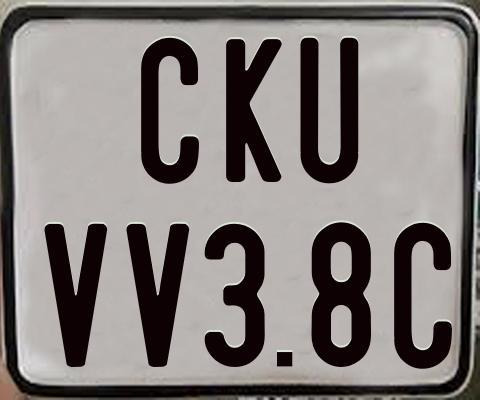3: (204, 224, 266, 370)
8: (311, 222, 376, 373)
C: (140, 38, 202, 190), (393, 222, 456, 369)
K: (225, 36, 287, 182)
U: (298, 35, 359, 187)
V: (42, 221, 109, 364), (125, 221, 188, 370)
